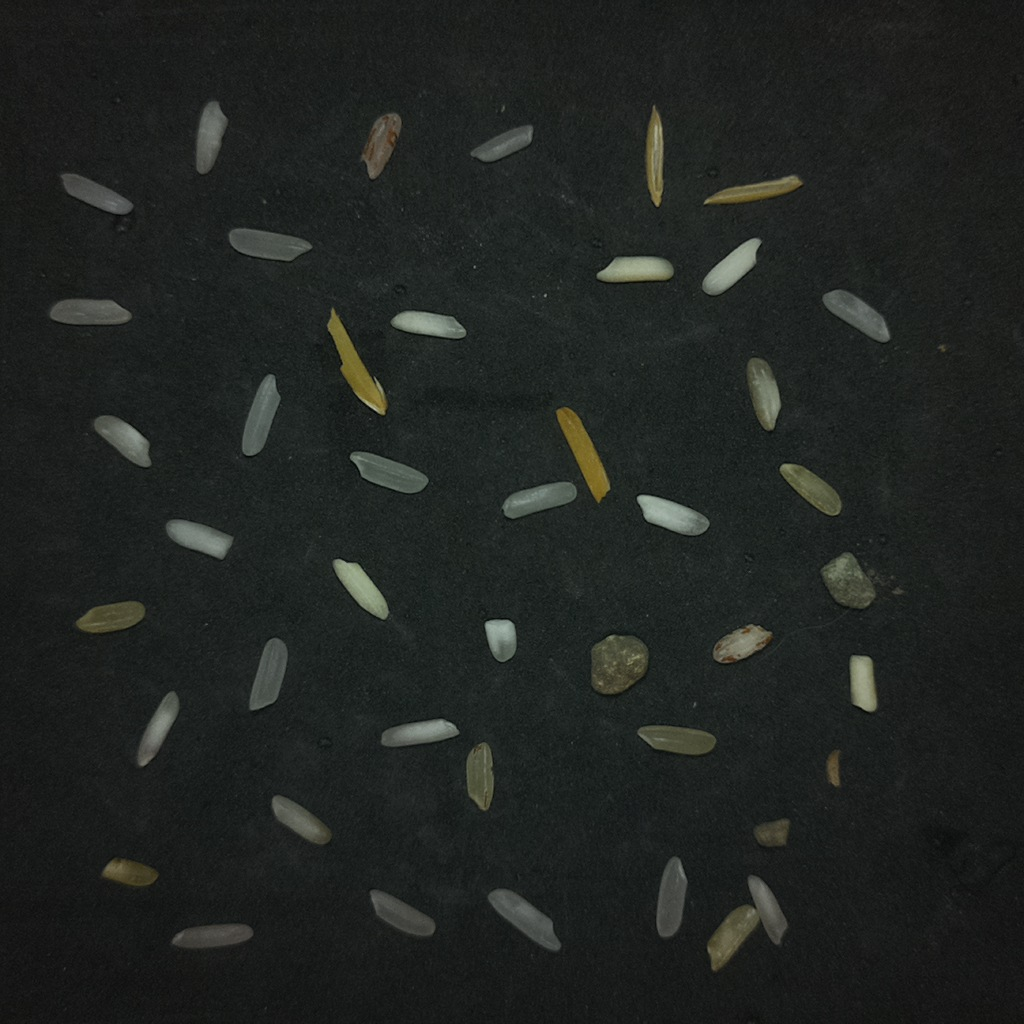broken: (93, 415, 151, 467), (271, 795, 331, 844), (748, 875, 787, 944), (195, 100, 228, 174), (471, 124, 533, 161)
chalky: (332, 558, 388, 619), (702, 238, 761, 295), (136, 691, 179, 766), (636, 494, 709, 535), (165, 519, 232, 559), (380, 718, 458, 747), (390, 310, 466, 339), (597, 256, 673, 282), (850, 655, 877, 712), (484, 619, 516, 662)
discolored: (556, 407, 610, 502), (707, 905, 759, 970), (779, 463, 841, 516), (747, 357, 780, 430), (75, 600, 144, 633), (637, 726, 715, 755), (466, 742, 493, 810), (101, 858, 157, 887), (753, 818, 790, 847), (826, 749, 840, 787)
foreign: (591, 635, 647, 694), (820, 552, 876, 609)
paddy: (327, 308, 387, 414), (704, 175, 802, 204), (645, 106, 664, 206)
red: (360, 112, 401, 179), (714, 624, 772, 663)
whole: (488, 889, 560, 951), (822, 289, 890, 342), (350, 451, 428, 493), (370, 890, 435, 937), (242, 374, 279, 456), (61, 173, 133, 215), (502, 481, 576, 518), (249, 637, 287, 709), (229, 228, 311, 261), (656, 856, 687, 938), (48, 298, 131, 325), (171, 923, 252, 948)
